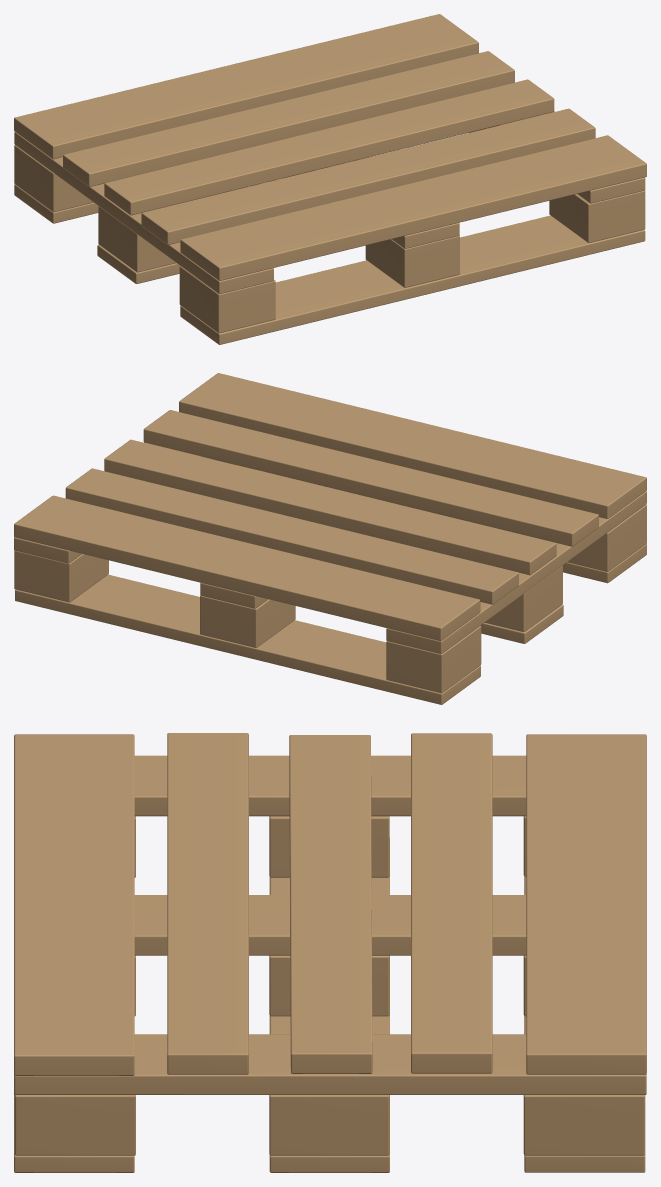
The model's file is pallet_block_b02.glb.
The picture shows the model from 3 angles, top to bottom: view 1: azimuth 30°, elevation 25°; view 2: azimuth 150°, elevation 25°; view 3: azimuth 270°, elevation 25°; orthographic projection. The views are drawn at different scales.
Bounding box in the file's own units: 1.21 × 0.2086 × 1.
